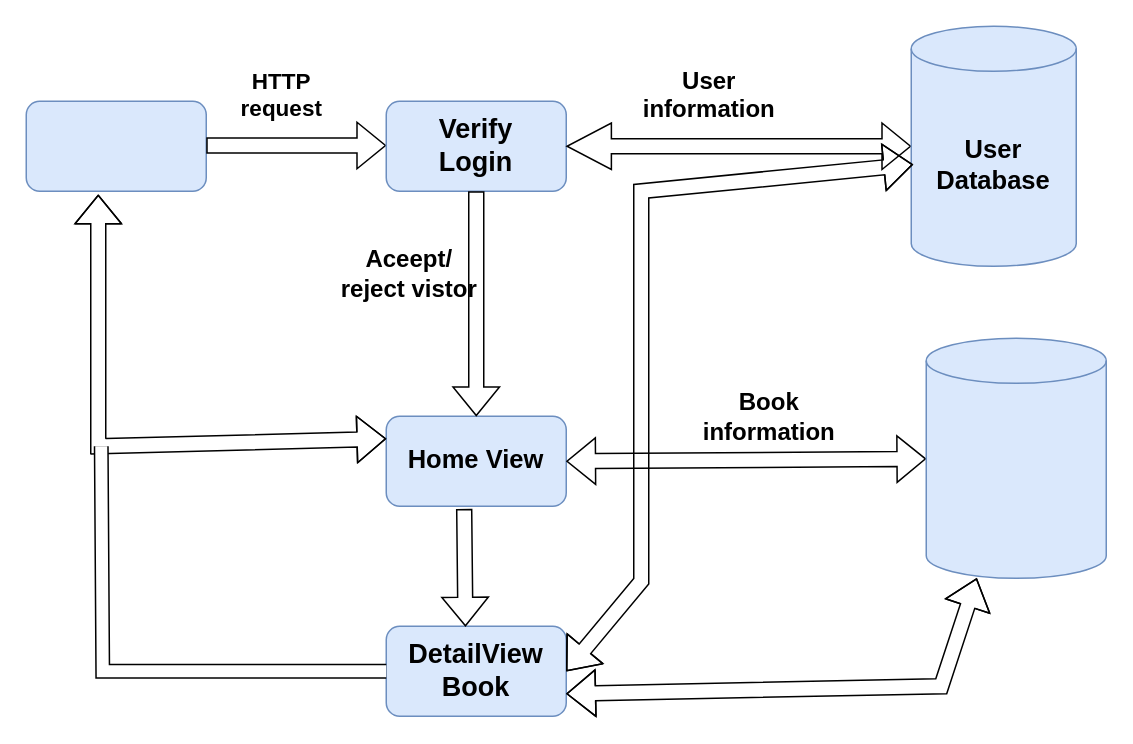
This 1133x744 diagram has some shape labels left out. Here are the shapes that lost their labels. From the top down, the centre of each, then its label:
At pixel 115 145: "Web site User".
At pixel 1015 457: "Book Database".
